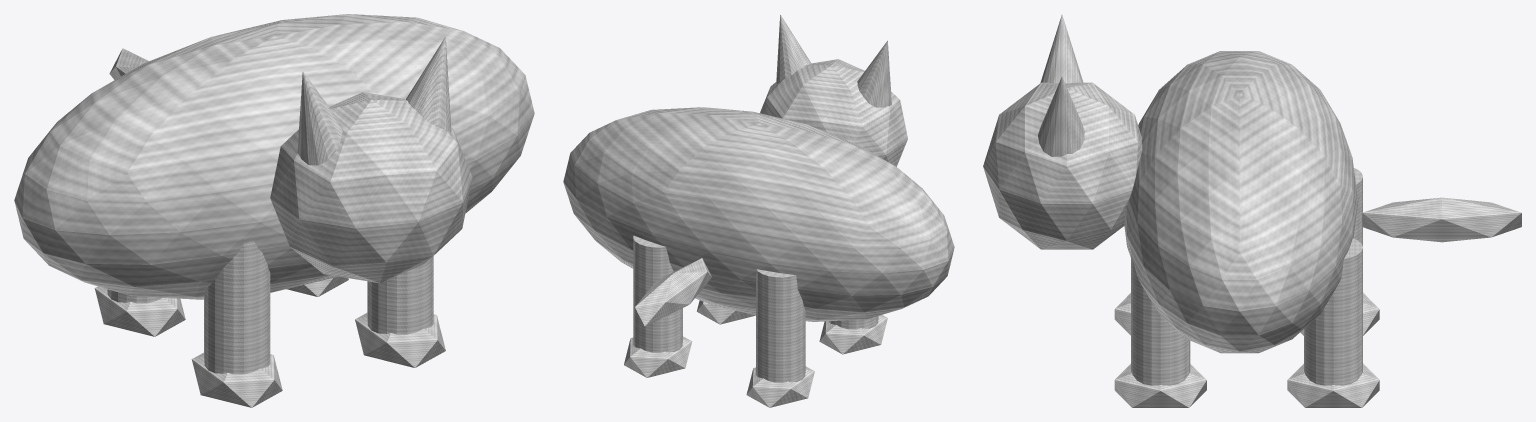
Rendered from fauna-lizard-doggo_variant_d.glb.
3 views of the same model, side by side, from view 1: azimuth 30°, elevation 25°; view 2: azimuth 150°, elevation 25°; view 3: azimuth 270°, elevation 25° (orthographic). The views are drawn at different scales.
Visible parts, largest first — view 1: Creature torso, Creature head, Leg.012, Leg.014, Foot.015, Foot.013, Ear.006, Foot.014, Ear.007, Tail.003, Foot; view 2: Creature torso, Creature head, Leg.013, Leg.015, Tail.003, Foot, Foot.014, Foot.013, Ear.006, Ear.007, Foot.015, Leg.012; view 3: Creature torso, Creature head, Leg.015, Tail.003, Leg.014, Foot, Foot.015, Ear.007, Ear.006, Leg.013.
Part boxes in pixels (x1,y1,x2,y2): Creature torso: [14, 14, 534, 299]; Creature head: [270, 92, 472, 283]; Leg.012: [204, 241, 270, 374]; Leg.014: [367, 256, 433, 334]; Foot.015: [355, 313, 445, 367]; Foot.013: [191, 352, 282, 407]; Ear.006: [297, 71, 342, 165]; Foot.014: [94, 286, 185, 336]; Ear.007: [406, 36, 451, 132]; Tail.003: [109, 48, 148, 79]; Foot: [286, 276, 348, 296]; Creature torso: [563, 107, 954, 321]; Creature head: [760, 59, 907, 166]; Leg.013: [756, 269, 805, 382]; Leg.015: [633, 235, 682, 352]; Tail.003: [635, 258, 711, 326]; Foot: [624, 336, 692, 377]; Foot.014: [746, 366, 814, 407]; Foot.013: [819, 315, 887, 354]; Ear.006: [857, 40, 891, 107]; Ear.007: [776, 14, 810, 83]; Foot.015: [697, 300, 755, 324]; Leg.012: [829, 316, 878, 329]; Creature torso: [1124, 51, 1358, 353]; Creature head: [983, 82, 1142, 249]; Leg.015: [1304, 238, 1362, 385]; Tail.003: [1362, 197, 1521, 242]; Leg.014: [1131, 253, 1190, 385]; Foot: [1287, 363, 1379, 407]; Foot.015: [1114, 364, 1206, 407]; Ear.007: [1038, 76, 1084, 156]; Ear.006: [1040, 14, 1083, 83]; Leg.013: [1353, 168, 1362, 246].
Size of what is drawn, in the model's own units: 2.1 by 1.46 by 2.18.
Materials: 3 (3 with a texture image).
